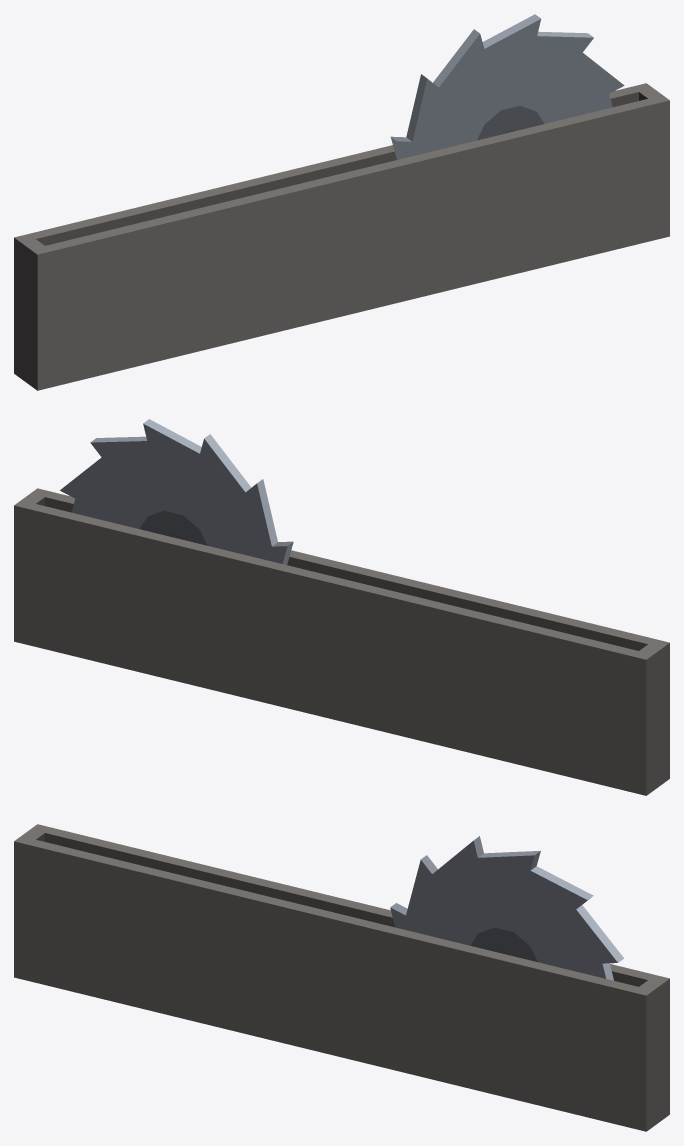
The model's file is SD_Trap_BuzzSaw_01.fbx.
The picture shows the model from 3 angles, top to bottom: view 1: azimuth 30°, elevation 25°; view 2: azimuth 150°, elevation 25°; view 3: azimuth 330°, elevation 25°; orthographic projection.
Visible parts, largest first — view 1: SD_Trap_BuzzSaw_01, BuzzSaw; view 2: SD_Trap_BuzzSaw_01, BuzzSaw; view 3: SD_Trap_BuzzSaw_01, BuzzSaw.
Part boxes in pixels (left/top/right/bottom): SD_Trap_BuzzSaw_01: left=14, top=83, right=669, bottom=390; BuzzSaw: left=390, top=14, right=624, bottom=159; SD_Trap_BuzzSaw_01: left=14, top=488, right=669, bottom=795; BuzzSaw: left=60, top=419, right=293, bottom=564; SD_Trap_BuzzSaw_01: left=14, top=824, right=669, bottom=1131; BuzzSaw: left=390, top=836, right=623, bottom=980.
Bounding box in the file's own units: 9.35 × 3.4 × 0.6021.
